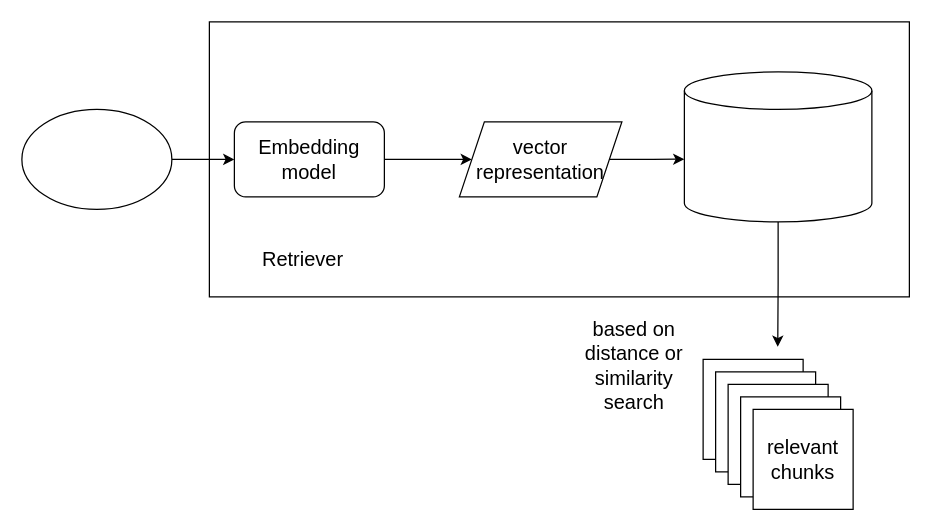
The diagram is 931 pixels wide and 531 high, and some of its shapes have lost their labels. The shapes that lost their labels are listed below. From the top down, each one's centre as x and y in pixels, then its label:
[96,158]: user query
[777,146]: vectorstore
